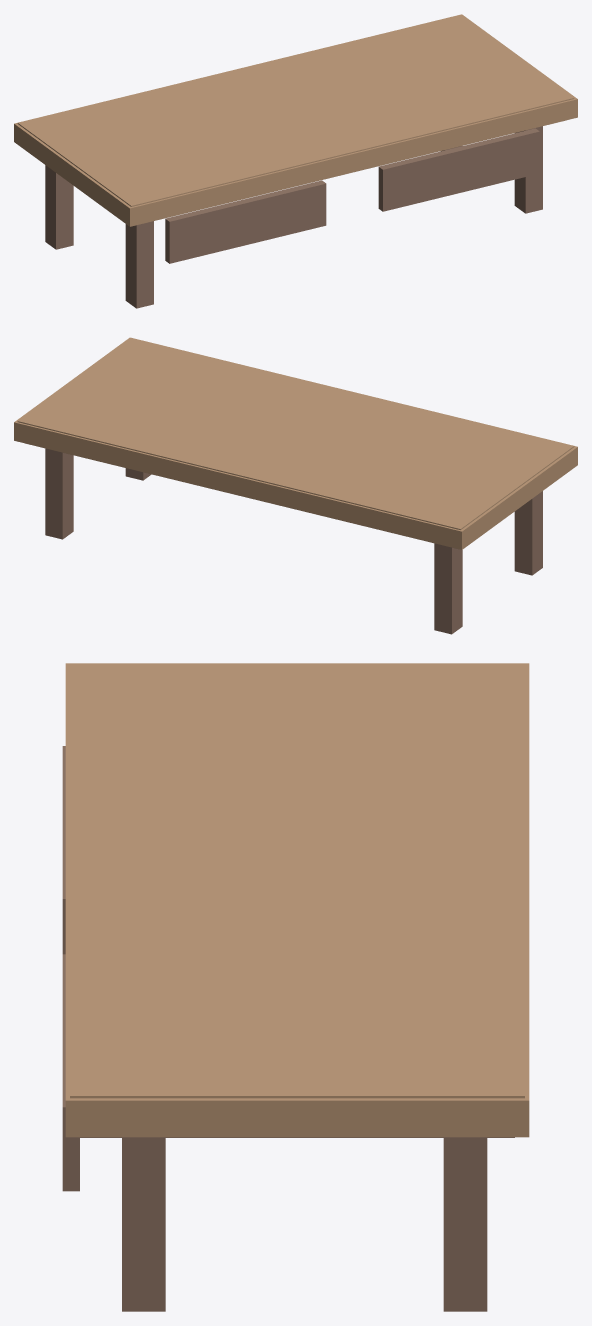
Rendered from desk-low.gltf.
3 views of the same model, one above another, from view 1: azimuth 30°, elevation 25°; view 2: azimuth 150°, elevation 25°; view 3: azimuth 270°, elevation 25° (orthographic). The views are drawn at different scales.
Visible parts, largest first — view 1: Warm beveled edge, Drawer front (×2), Walnut slab, Desk leg (×3); view 2: Warm beveled edge, Walnut slab, Desk leg (×3); view 3: Warm beveled edge, Walnut slab, Desk leg (×2), Drawer front (×2).
Boxes of the visible parts, x1,y1,x2,y2 form: Warm beveled edge: (17, 14, 574, 206); Drawer front (×2): (165, 128, 539, 263); Walnut slab: (14, 14, 577, 226); Desk leg (×3): (45, 126, 542, 308); Warm beveled edge: (17, 338, 574, 529); Walnut slab: (14, 337, 577, 549); Desk leg (×3): (45, 448, 542, 634); Warm beveled edge: (70, 663, 524, 1098); Walnut slab: (65, 663, 529, 1137); Desk leg (×2): (122, 1138, 487, 1311); Drawer front (×2): (62, 746, 79, 1191).
Size of the model in its own units: 3.57 by 0.8885 by 1.61.
